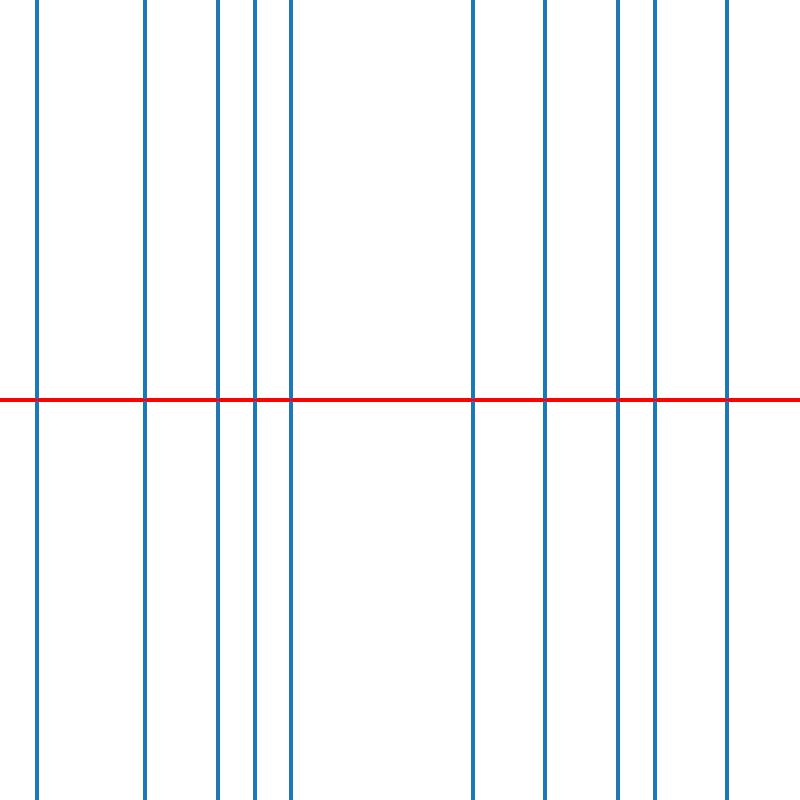root: (541, 396, 549, 404), (250, 396, 258, 404), (650, 396, 658, 404), (141, 396, 149, 404), (32, 396, 40, 404), (214, 396, 221, 404), (287, 396, 294, 404), (469, 396, 476, 404), (614, 396, 621, 404), (723, 396, 730, 404)
